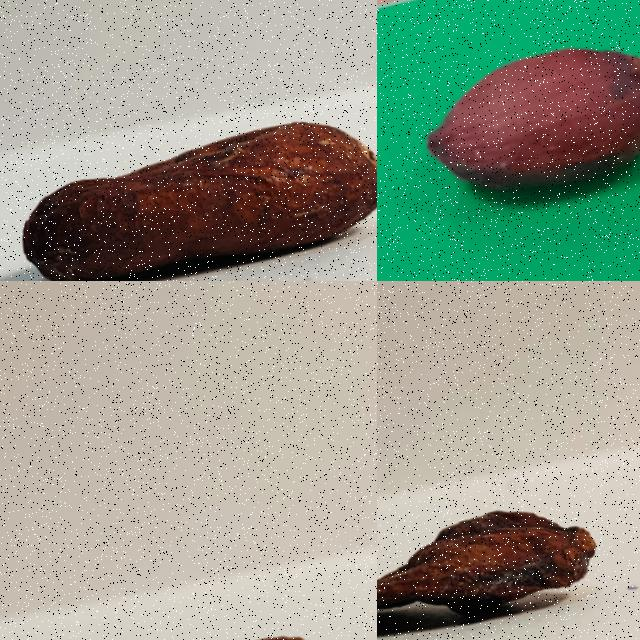Fine_cocoabeans: (0, 57, 376, 280), (377, 0, 639, 276)
Flat_cocoabeans: (377, 468, 630, 639), (0, 566, 367, 639)
